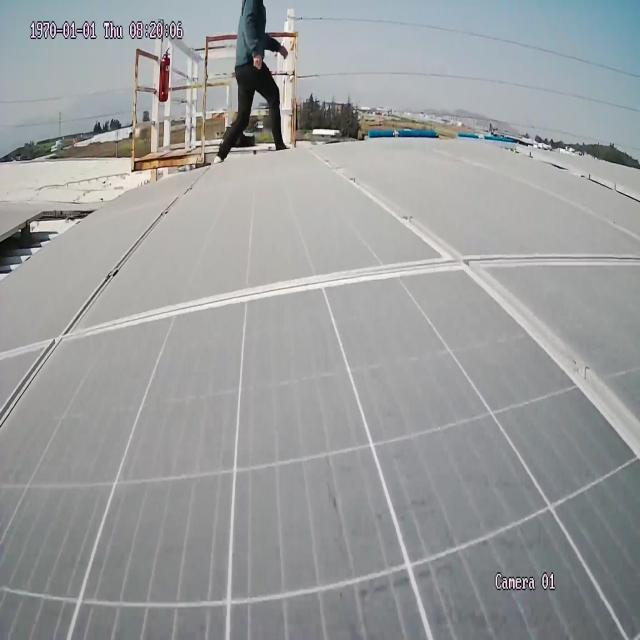interior panel: (62, 163, 640, 497), (0, 161, 218, 453)
